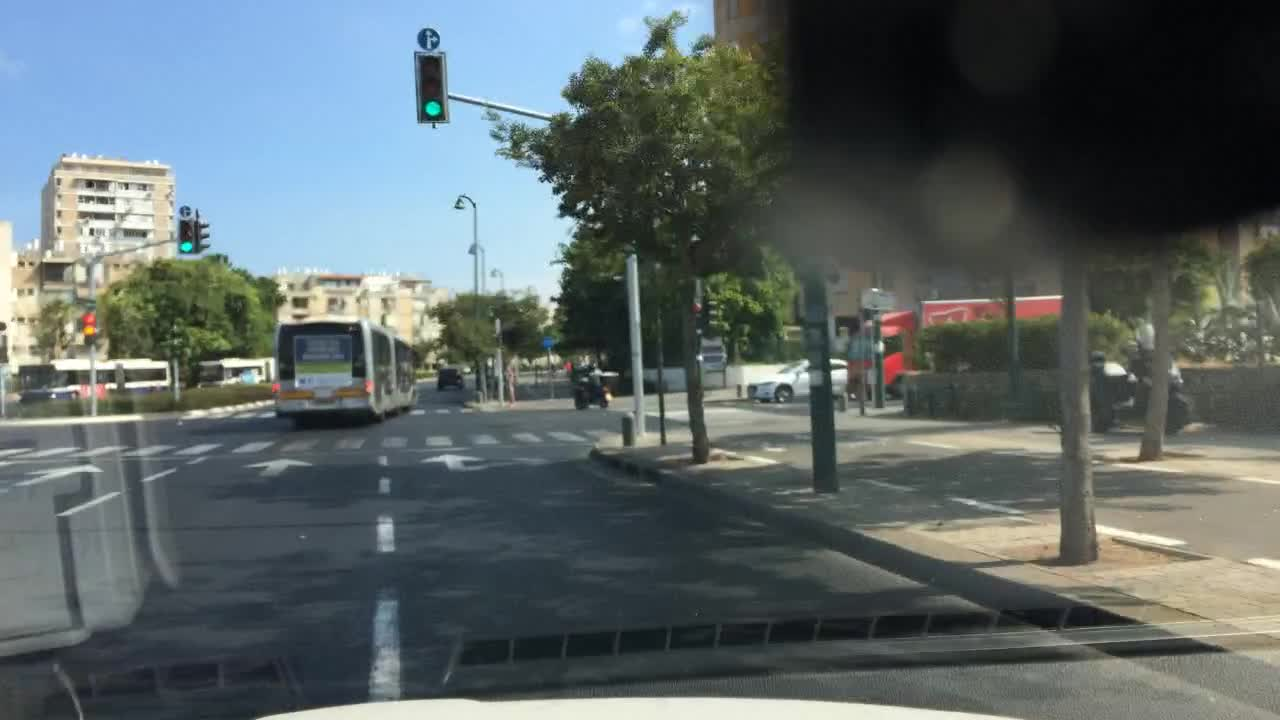bus: (273, 313, 420, 428), (15, 356, 172, 402), (192, 356, 275, 389)
car: (746, 356, 850, 402), (881, 348, 918, 398), (474, 361, 501, 389), (436, 369, 463, 389), (570, 362, 594, 379)
motor: (1158, 385, 1193, 434), (1085, 392, 1118, 435), (573, 382, 613, 409)
rider: (1128, 317, 1183, 391), (1088, 348, 1137, 409), (587, 363, 606, 387), (436, 352, 463, 367)
traffic light: (413, 50, 447, 123), (178, 217, 199, 256), (82, 312, 98, 343), (199, 218, 210, 254)
traffic sign: (860, 284, 892, 308), (416, 28, 443, 49), (81, 382, 105, 398), (78, 294, 97, 307), (178, 204, 190, 217), (542, 334, 554, 347), (307, 174, 318, 185)
